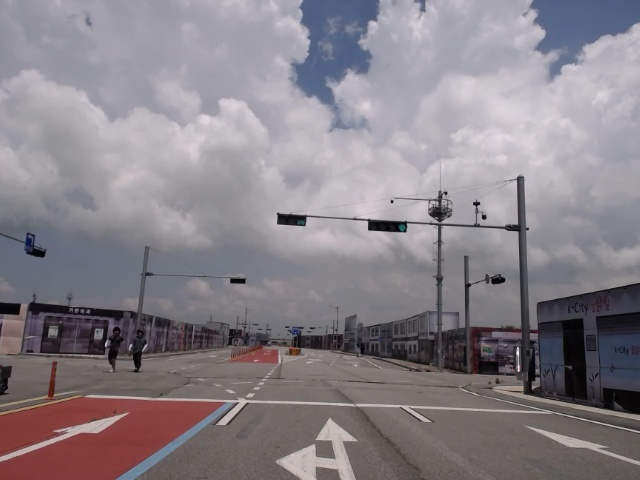straight_green_4: (368, 220, 406, 234)
